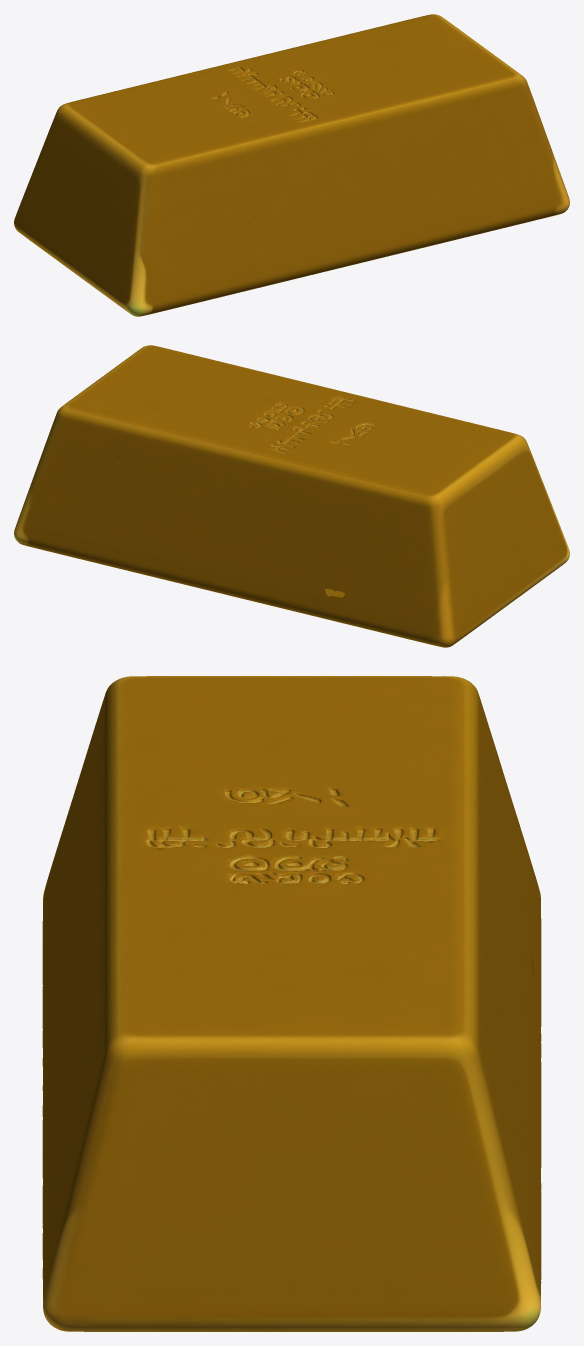
The model's file is gold-bar-textured-no-pbr.glb.
3 renders of one model, top to bottom at view 1: azimuth 30°, elevation 25°; view 2: azimuth 150°, elevation 25°; view 3: azimuth 270°, elevation 25°, orthographic. The views are drawn at different scales.
Bounding box in the file's own units: 2 × 0.585 × 0.9797.
Materials: 1 (1 with a texture image).
